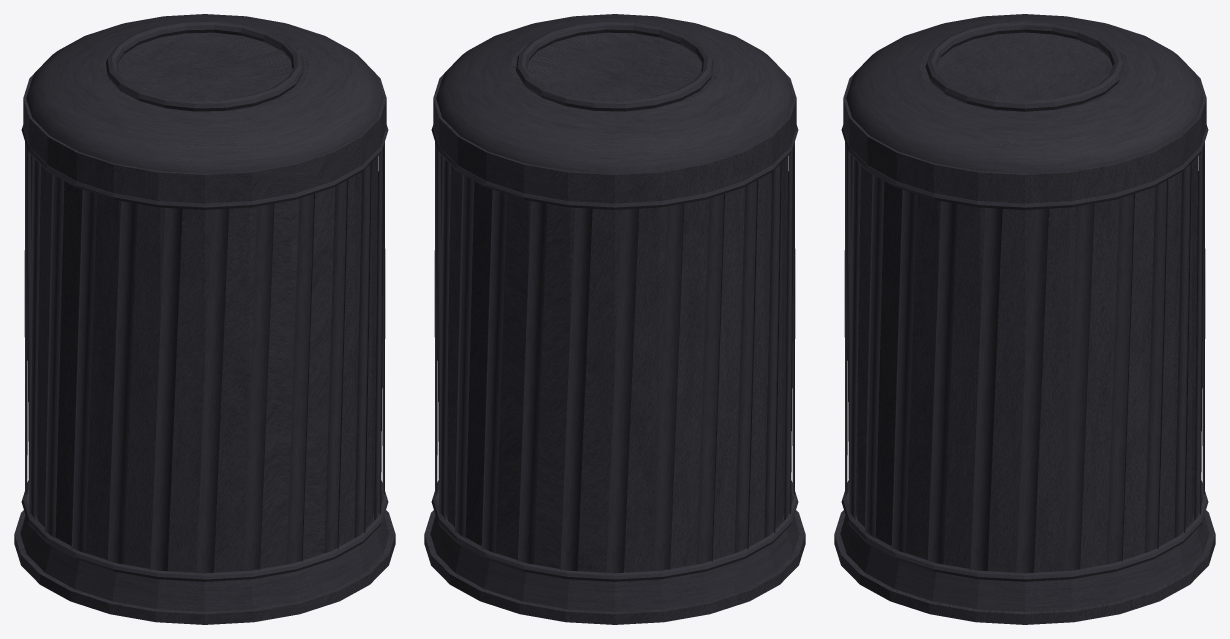
Rendered from cp_trash_can.glb.
The picture shows the model from 3 angles, left to right: view 1: azimuth 30°, elevation 25°; view 2: azimuth 150°, elevation 25°; view 3: azimuth 270°, elevation 25°; orthographic projection.
Visible parts, largest first — view 1: CP_TrashCan; view 2: CP_TrashCan; view 3: CP_TrashCan.
Boxes of the visible parts, x1=… form: CP_TrashCan: x1=14, y1=14, x2=395, y2=624; CP_TrashCan: x1=424, y1=14, x2=805, y2=624; CP_TrashCan: x1=834, y1=14, x2=1215, y2=624.
Size of the model in its own units: 0.65 by 0.9095 by 0.65.
Materials: 1 (1 with a texture image).
